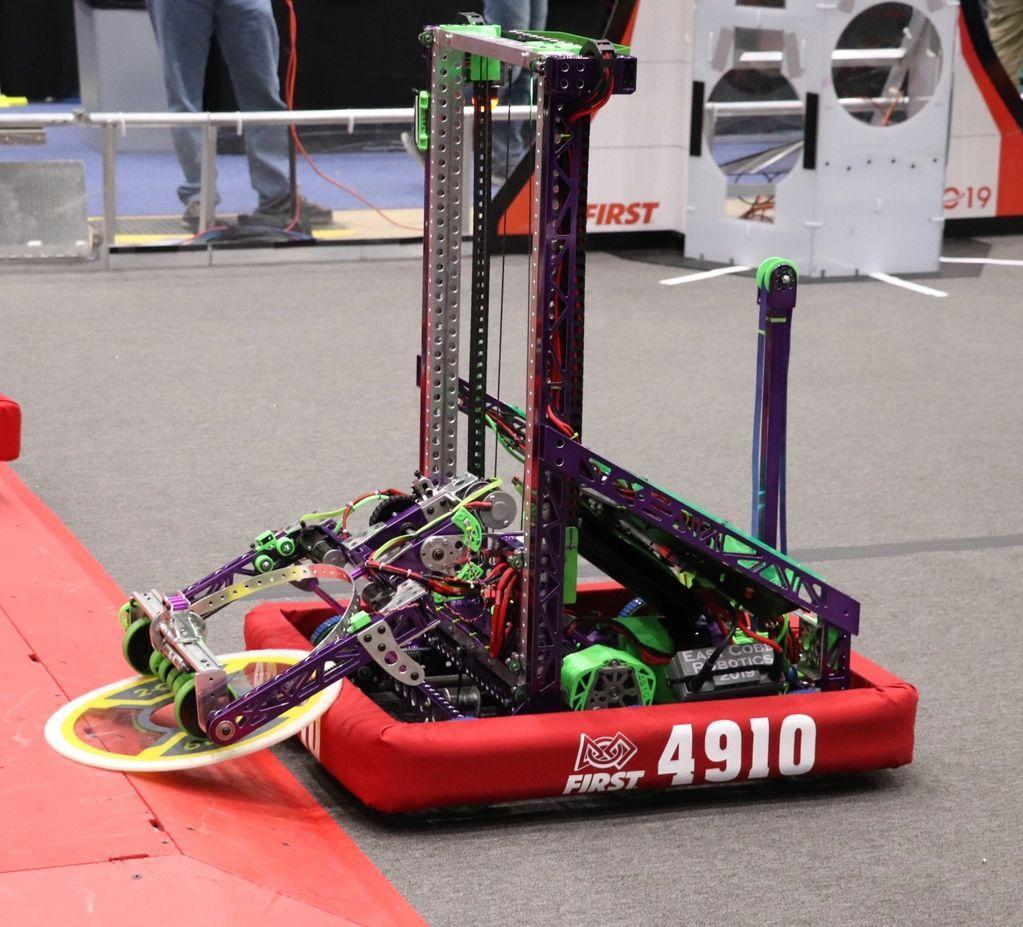robot: (120, 14, 930, 826)
